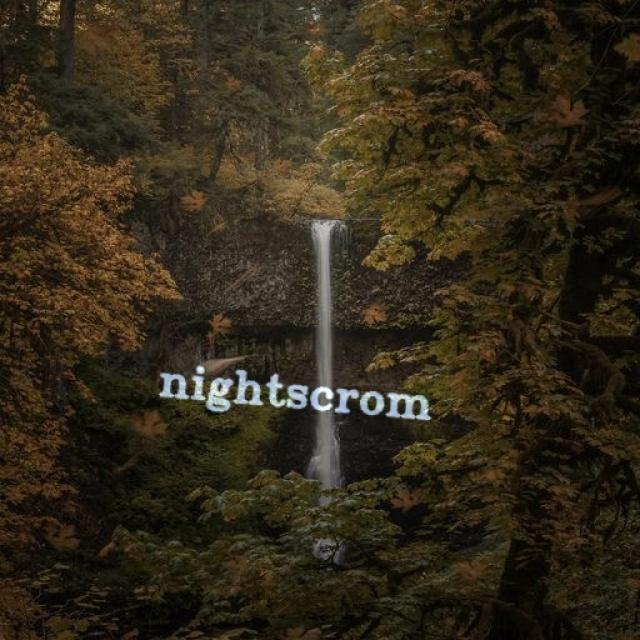watermark: (147, 362, 463, 426)
